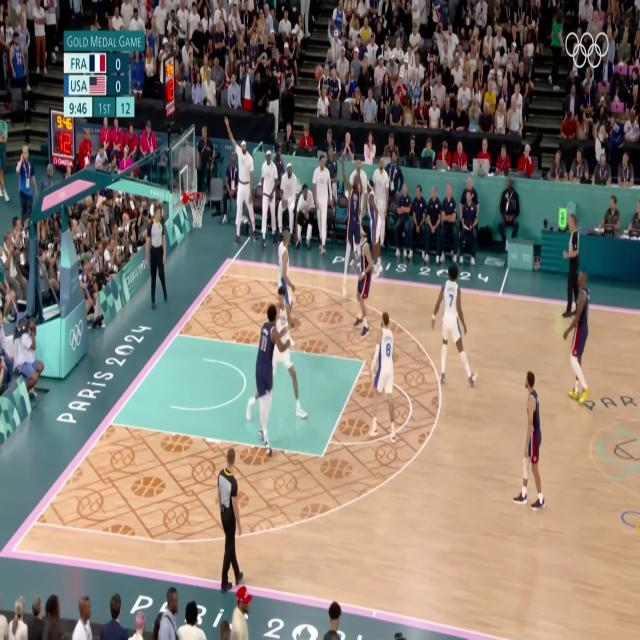player: (238, 301, 282, 467), (430, 258, 480, 395), (359, 317, 408, 450), (507, 371, 551, 514), (266, 284, 307, 434), (560, 272, 599, 416), (335, 146, 363, 294), (347, 218, 377, 351), (270, 221, 304, 335)
